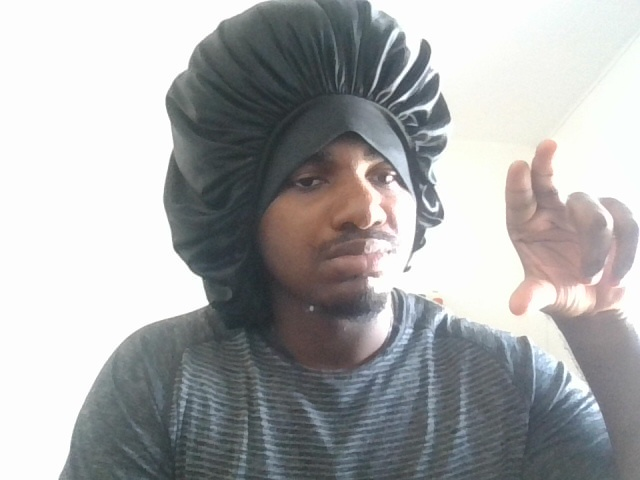No: (501, 139, 640, 339)
